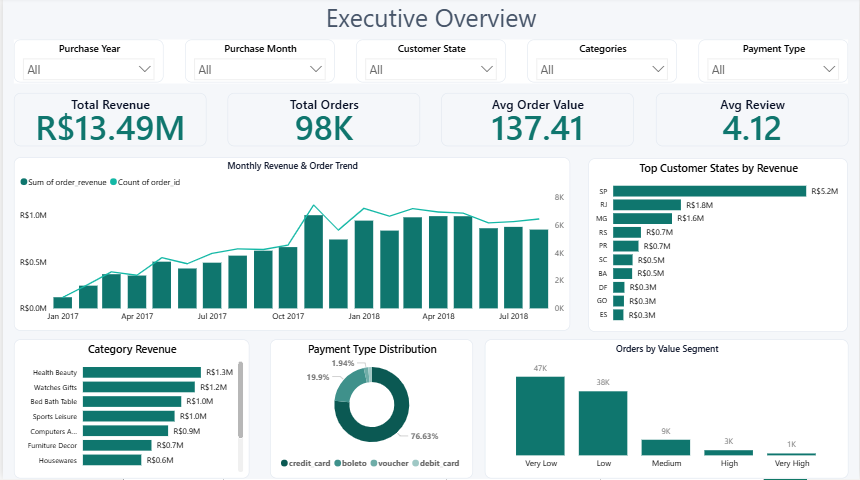

What the dashboard file says about the page in this screenshot:
{"tool":"powerbi","page":{"name":"Overview","canvas":[1280,720],"ordinal":0},"visuals":[{"type":"slicer","title":"Purchase Year","fields":{"Values":["Sheet1.order_purchase_year"]},"box":[16,64,224,64],"z":0,"group":"g1"},{"type":"card","title":"Total Revenue","fields":{"Values":["Sheet1.Total_Revenue"]},"box":[16,144,288,80],"z":0},{"type":"card","title":"Total Orders","fields":{"Values":["Sheet1.Total Orders"]},"box":[336,144,288,80],"z":1000},{"type":"slicer","title":"Purchase Month","fields":{"Values":["Sheet1.order_purchase_month_name"]},"box":[272,64,224,64],"z":2000,"group":"g1"},{"type":"card","title":"Avg Order Value","fields":{"Values":["Sheet1.Avg Order Value"]},"box":[656,144,288,80],"z":2000},{"type":"card","title":"Avg Review","fields":{"Values":["Sheet1.Avg Review"]},"box":[976,144,288,80],"z":3000},{"type":"textbox","box":[16,0,1248,64],"z":4000},{"type":"slicer","title":"Customer State","fields":{"Values":["Sheet1.customer_state"]},"box":[528,64,224,64],"z":4000,"group":"g1"},{"type":"lineClusteredColumnComboChart","title":"Monthly Revenue & Order Trend","fields":{"Y":["Sum(Sheet1.order_revenue)"],"Y2":["CountNonNull(Sheet1.order_id)"],"Category":["Sheet1.year_month"]},"box":[16,240,832,260],"z":5000},{"type":"slicer","title":"Categories","fields":{"Values":["Sheet1.main_category"]},"box":[784,64,224,64],"z":6000,"group":"g1"},{"type":"donutChart","title":"Payment Type Distribution","fields":{"Category":["Sheet1.main_payment_type"],"Y":["Count(Sheet1.order_id)"]},"box":[400,512,304,208],"z":6000},{"type":"clusteredColumnChart","title":"Orders by Value Segment","fields":{"Category":["Sheet1.order_value_segment"],"Y":["CountNonNull(Sheet1.order_id)"]},"box":[720,512,544,208],"z":7000},{"type":"slicer","title":"Payment Type","fields":{"Values":["Sheet1.main_payment_type"]},"box":[1040,64,224,64],"z":8000,"group":"g1"},{"type":"clusteredBarChart","title":"Category Revenue","fields":{"Category":["Sheet1.main_category"],"Y":["Sum(Sheet1.order_revenue)"]},"box":[16,512,352,208],"z":8000},{"type":"clusteredBarChart","title":"Top Customer States by Revenue","fields":{"Y":["Sum(Sheet1.order_revenue)"],"Category":["Sheet1.customer_state"]},"box":[875.7,240.6,388.1,260],"z":9000},{"type":"group","id":"g1","title":"Group 1","box":[16,64,1248,64],"z":10000}]}

Visuals, with their boxes in screenshot pixels (x1, y1, x2, y2), scaled from the page's 1280x720 canvas onto the 860x480 screenshot:
"Purchase Year" slicer: [11, 43, 161, 85]
"Total Revenue" card: [11, 96, 204, 149]
"Total Orders" card: [226, 96, 419, 149]
"Purchase Month" slicer: [183, 43, 333, 85]
"Avg Order Value" card: [441, 96, 634, 149]
"Avg Review" card: [656, 96, 849, 149]
textbox: [11, 0, 849, 43]
"Customer State" slicer: [355, 43, 505, 85]
"Monthly Revenue & Order Trend" lineClusteredColumnComboChart: [11, 160, 570, 333]
"Categories" slicer: [527, 43, 677, 85]
"Payment Type Distribution" donutChart: [269, 341, 473, 479]
"Orders by Value Segment" clusteredColumnChart: [484, 341, 849, 479]
"Payment Type" slicer: [699, 43, 849, 85]
"Category Revenue" clusteredBarChart: [11, 341, 247, 479]
"Top Customer States by Revenue" clusteredBarChart: [588, 160, 849, 334]
"Group 1" group: [11, 43, 849, 85]
